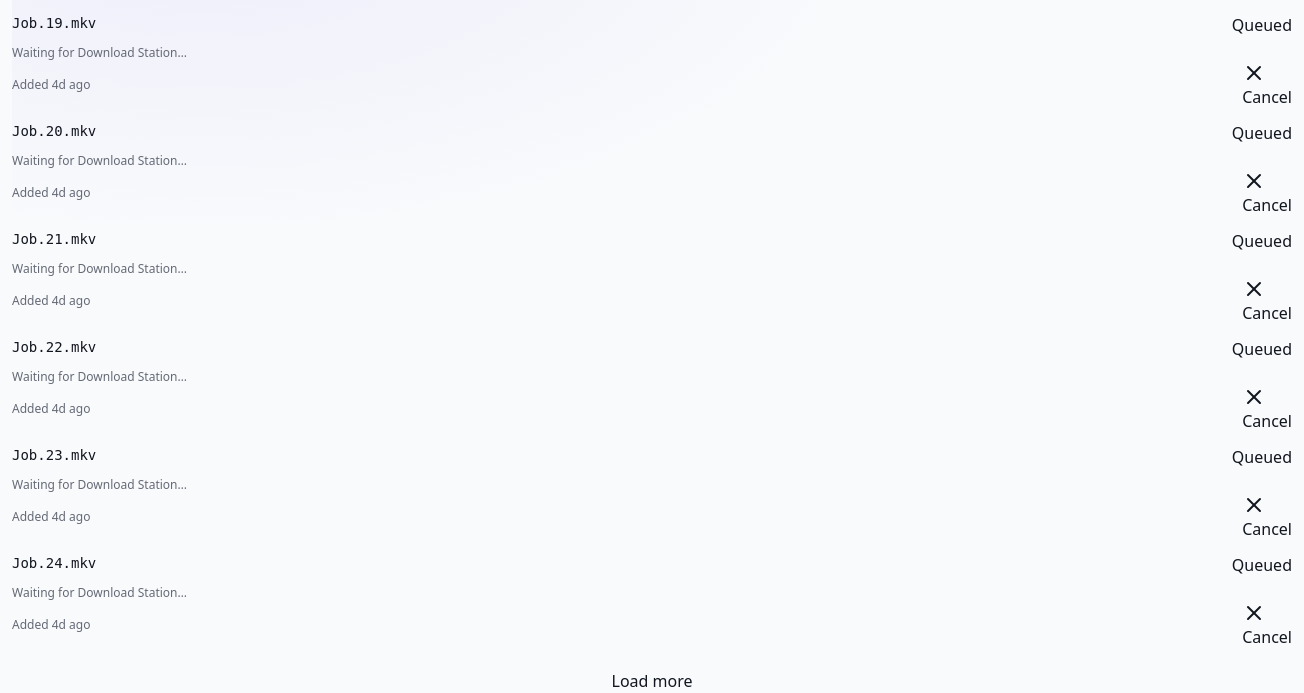
Test case: DownloadsPage › with 60 downloads, Load more stops at 60 (capped: false)
(page scrolled)
Click the button "Load more": coordinates (652, 680) [612,668,692,692]
(page scrolled)
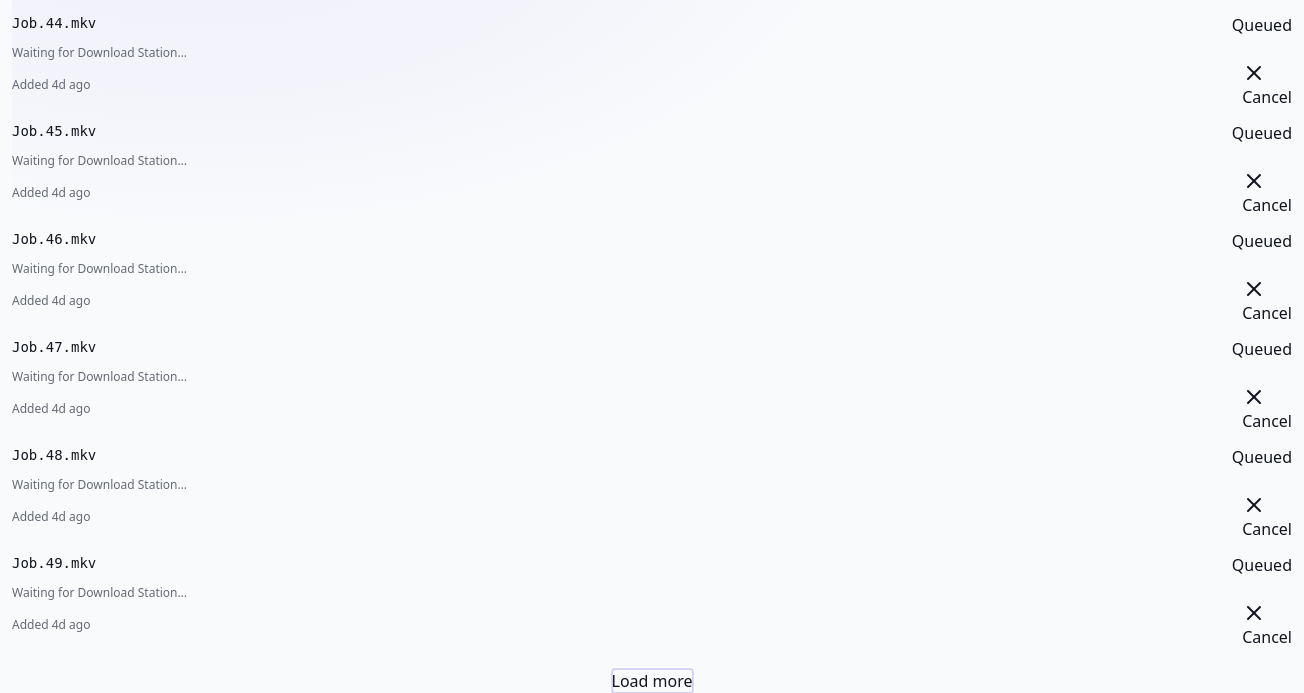
Click the button "Load more": coordinates (652, 680) [612,668,692,692]
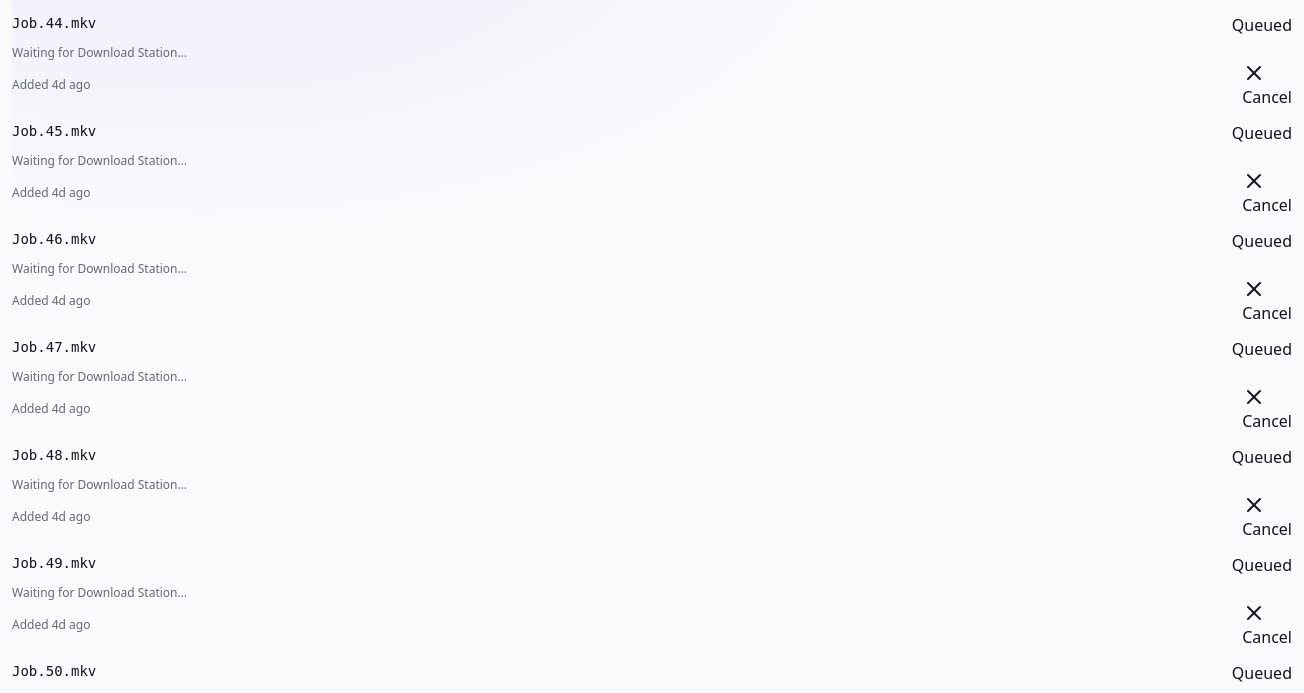
Result: the button "Load more" is gone
